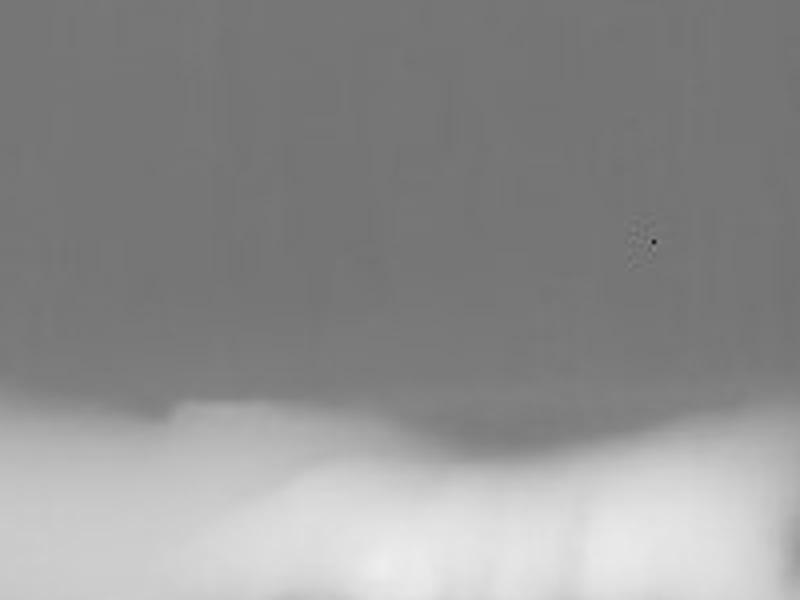defect: (650, 234, 660, 249)
